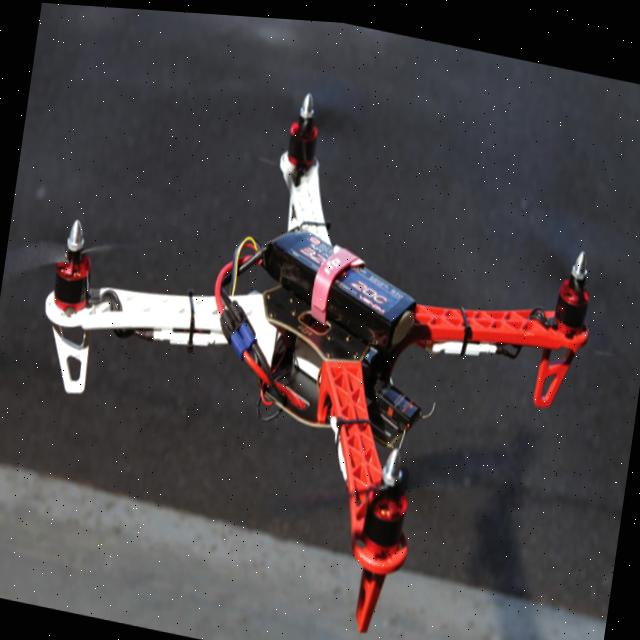drone: (0, 10, 633, 640)
